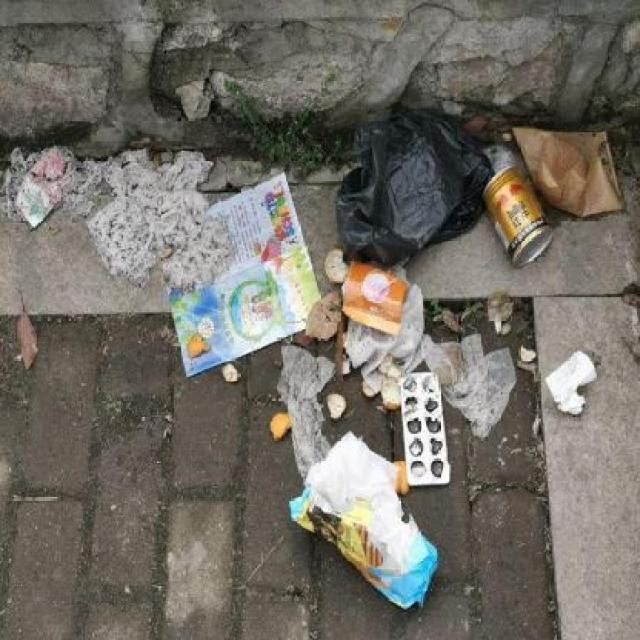garbage: (273, 268, 479, 612), (309, 86, 623, 279), (148, 173, 320, 389)
